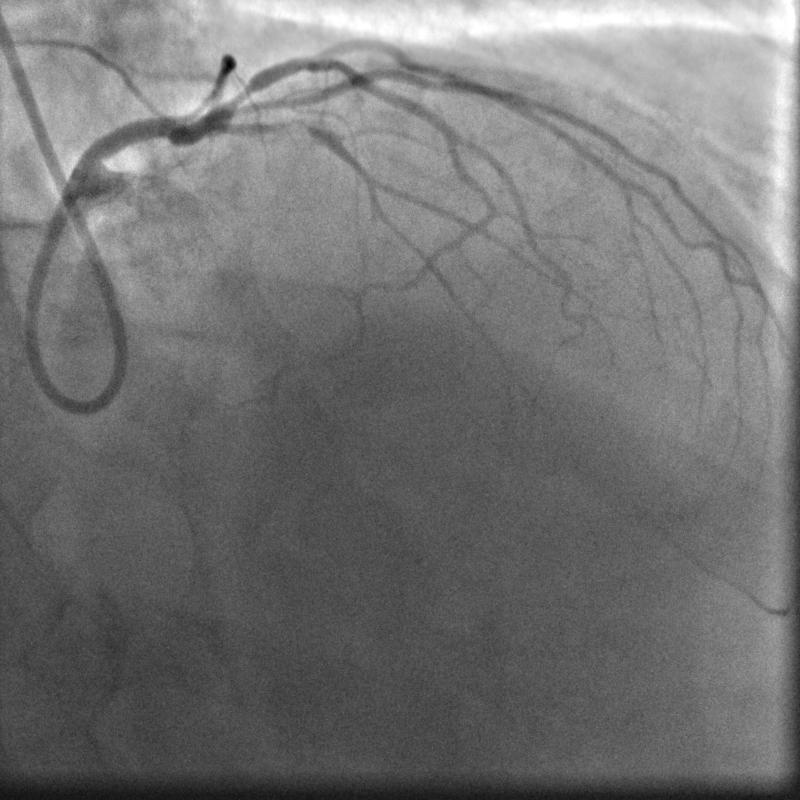Stenosis: (222, 82, 259, 109)
